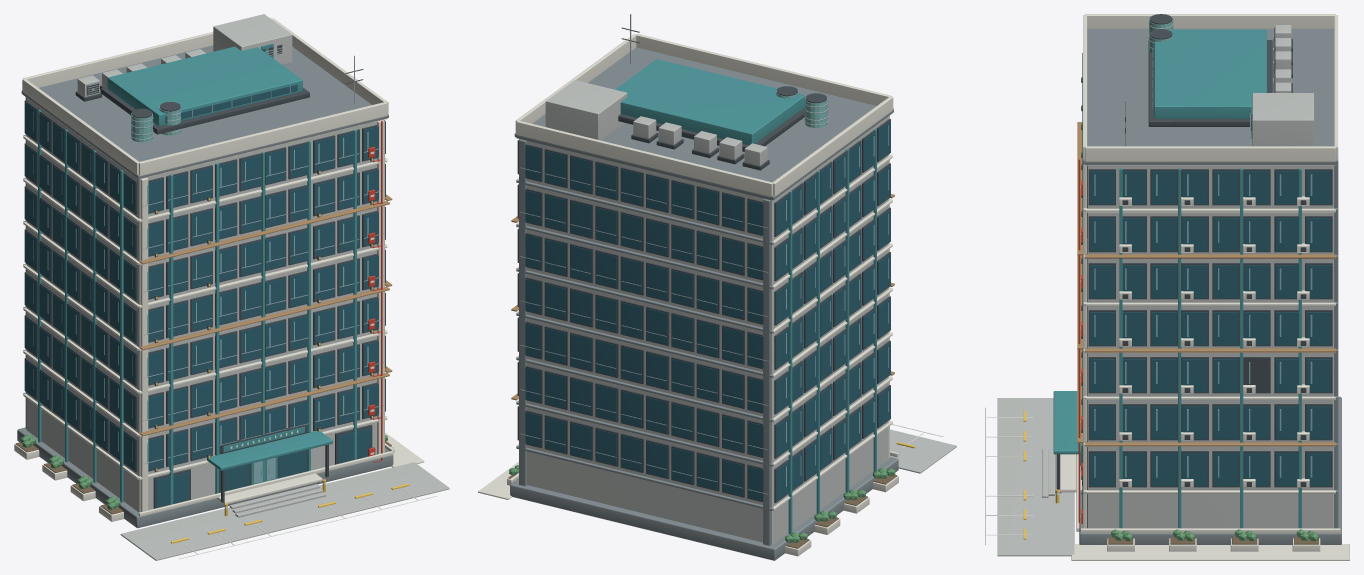
The model's file is CORPORATE_OFFICE.fbx.
3 renders of one model, left to right at view 1: azimuth 30°, elevation 25°; view 2: azimuth 150°, elevation 25°; view 3: azimuth 270°, elevation 25°, orthographic. The views are drawn at different scales.
Parts seen in each view (by area): view 1: Main office tower core, Roof slab, Office entrance forecourt, Teal rooftop crown feature, Front roof parapet, Podium base plinth, Front tower corner pier, Rear roof parapet, Rooftop lift motor room, Main entrance canopy, Side roof parapet, Front tower corner pier.001 (+79 smaller); view 2: Main office tower core, Teal rooftop crown feature, Roof slab, Podium base plinth, Rear roof parapet, Front roof parapet, Rooftop lift motor room, Rear tower corner pier, Rear tower corner pier.001, Side roof parapet, Office entrance forecourt, Side teal architectural fin.006 (+68 smaller); view 3: Main office tower core, Roof slab, Office entrance forecourt, Teal rooftop crown feature, Side roof parapet.001, Side pedestrian pavement, Rooftop lift motor room, Side roof parapet, Podium base plinth, Rear tower corner pier.001, Main entrance canopy, Corporate rooftop crown base (+75 smaller).
Part boxes in pixels (x1=…): Main office tower core: x1=26, y1=98, x2=383, y2=512; Roof slab: x1=21, y1=45, x2=388, y2=178; Office entrance forecourt: x1=120, y1=462, x2=449, y2=560; Teal rooftop crown feature: x1=107, y1=46, x2=302, y2=126; Front roof parapet: x1=138, y1=102, x2=387, y2=175; Podium base plinth: x1=17, y1=427, x2=393, y2=528; Front tower corner pier: x1=140, y1=177, x2=148, y2=511; Rear roof parapet: x1=23, y1=18, x2=271, y2=87; Rooftop lift motor room: x1=213, y1=14, x2=292, y2=64; Main entrance canopy: x1=207, y1=431, x2=332, y2=470; Side roof parapet: x1=22, y1=79, x2=138, y2=175; Front tower corner pier.001: x1=377, y1=120, x2=384, y2=454; Main office tower core: x1=527, y1=116, x2=888, y2=544; Teal rooftop crown feature: x1=615, y1=59, x2=805, y2=145; Roof slab: x1=514, y1=47, x2=893, y2=199; Podium base plinth: x1=510, y1=456, x2=898, y2=560; Rear roof parapet: x1=516, y1=120, x2=772, y2=196; Front roof parapet: x1=635, y1=33, x2=892, y2=105; Rooftop lift motor room: x1=545, y1=80, x2=627, y2=140; Rear tower corner pier: x1=763, y1=199, x2=771, y2=545; Rear tower corner pier.001: x1=519, y1=139, x2=526, y2=486; Side roof parapet: x1=772, y1=97, x2=893, y2=196; Office entrance forecourt: x1=890, y1=429, x2=956, y2=473; Side teal architectural fin.006: x1=788, y1=191, x2=792, y2=534; Main office tower core: x1=1087, y1=165, x2=1334, y2=528; Roof slab: x1=1083, y1=28, x2=1338, y2=164; Office entrance forecourt: x1=997, y1=398, x2=1074, y2=556; Teal rooftop crown feature: x1=1154, y1=29, x2=1266, y2=118; Side roof parapet.001: x1=1085, y1=146, x2=1335, y2=161; Side pedestrian pavement: x1=1071, y1=544, x2=1349, y2=560; Rooftop lift motor room: x1=1252, y1=93, x2=1314, y2=146; Side roof parapet: x1=1085, y1=14, x2=1335, y2=28; Podium base plinth: x1=1079, y1=396, x2=1341, y2=544; Rear tower corner pier.001: x1=1334, y1=164, x2=1338, y2=528; Main entrance canopy: x1=1053, y1=391, x2=1082, y2=454; Corporate rooftop crown base: x1=1148, y1=40, x2=1272, y2=126.
Size of the model in its own units: 2470 by 3115 by 2358.
